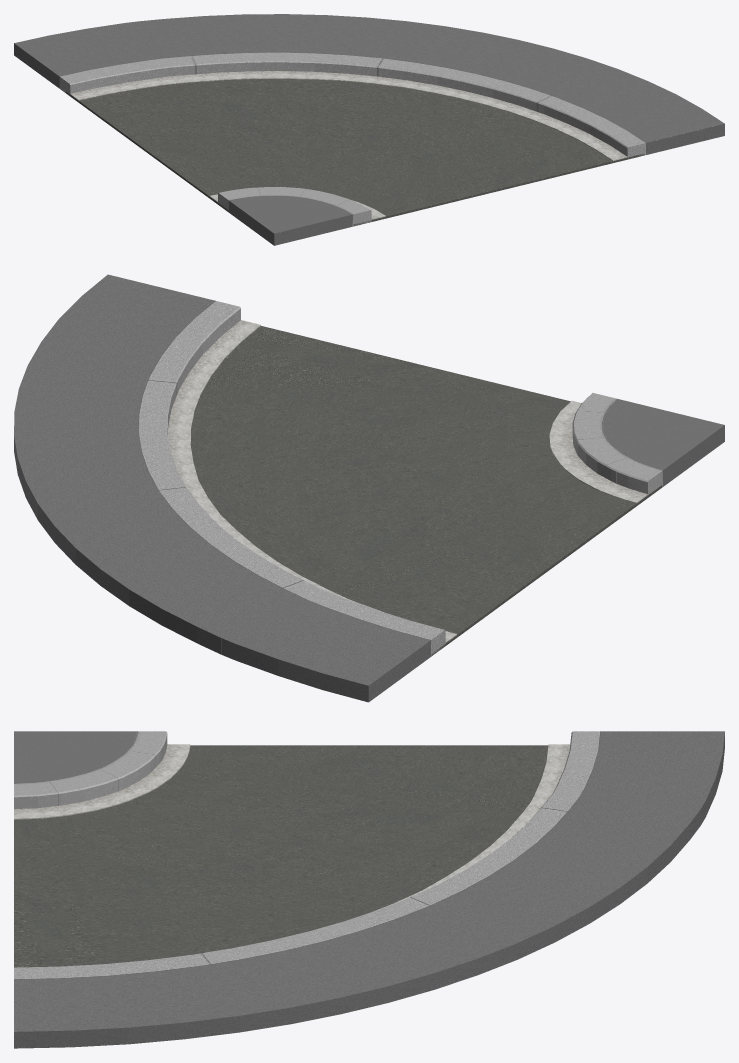
File: sweethome3d-scopia-curved-road-1-lane-90.glb
3 renders of one model, top to bottom at view 1: azimuth 30°, elevation 25°; view 2: azimuth 150°, elevation 25°; view 3: azimuth 270°, elevation 25°, orthographic. The views are drawn at different scales.
Visible parts, largest first — view 1: routeCourbe1VoieAvecTrottoirs90degrees_Plane.75deg, routeCourbe1VoieAvecTrottoirs90degrees_Plane.15deg; view 2: routeCourbe1VoieAvecTrottoirs90degrees_Plane.75deg, routeCourbe1VoieAvecTrottoirs90degrees_Plane.15deg; view 3: routeCourbe1VoieAvecTrottoirs90degrees_Plane.75deg, routeCourbe1VoieAvecTrottoirs90degrees_Plane.15deg.
Boxes of the visible parts, x1,y1,x2,y2 form: routeCourbe1VoieAvecTrottoirs90degrees_Plane.75deg: (140, 14, 724, 245); routeCourbe1VoieAvecTrottoirs90degrees_Plane.15deg: (14, 21, 274, 245); routeCourbe1VoieAvecTrottoirs90degrees_Plane.75deg: (14, 274, 724, 654); routeCourbe1VoieAvecTrottoirs90degrees_Plane.15deg: (221, 425, 724, 702); routeCourbe1VoieAvecTrottoirs90degrees_Plane.75deg: (14, 731, 700, 1048); routeCourbe1VoieAvecTrottoirs90degrees_Plane.15deg: (15, 731, 724, 825).
Size of the model in its own units: 695 by 18 by 695.
14 materials, 14 textured.
